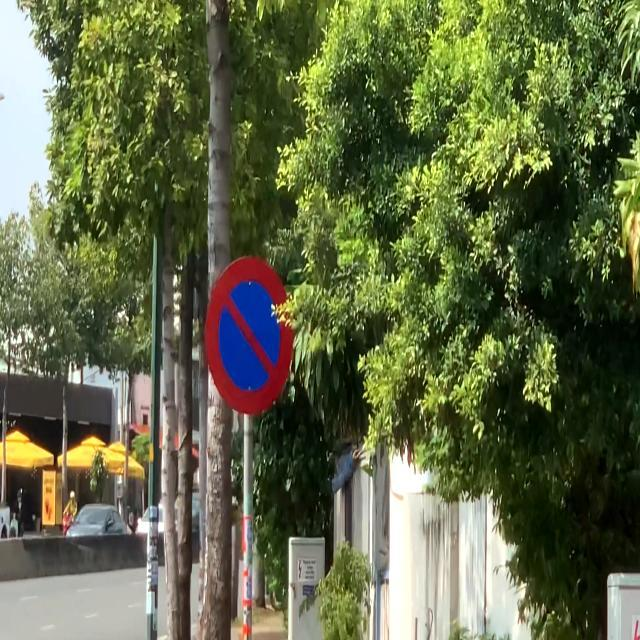P-131a: (203, 254, 294, 413)
